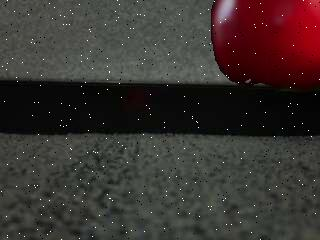Tomato: (210, 0, 320, 93)
